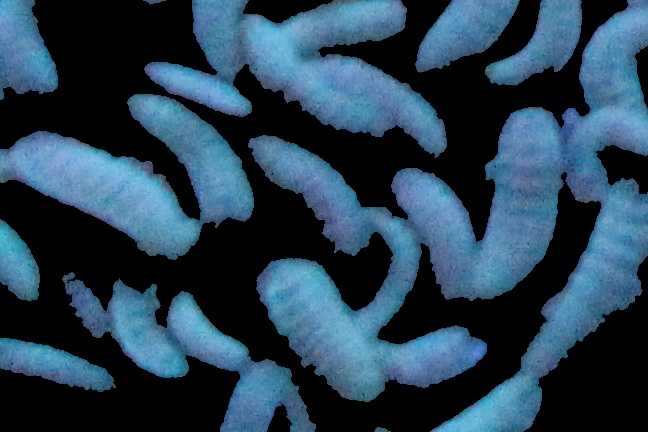larvae: (2, 128, 190, 258), (532, 189, 648, 364), (261, 252, 383, 401), (133, 89, 250, 223), (475, 107, 557, 288), (243, 17, 358, 137), (255, 132, 357, 253), (336, 55, 449, 154), (396, 171, 474, 296), (560, 100, 645, 205), (485, 1, 583, 84), (1, 334, 118, 398), (577, 1, 648, 105), (166, 290, 251, 372), (365, 203, 420, 325), (46, 236, 108, 341), (392, 318, 488, 383), (142, 60, 252, 115), (413, 1, 510, 63), (443, 379, 556, 432), (6, 1, 65, 102), (113, 282, 176, 375), (288, 1, 406, 48), (1, 209, 41, 309), (223, 368, 284, 432), (190, 1, 243, 64)
